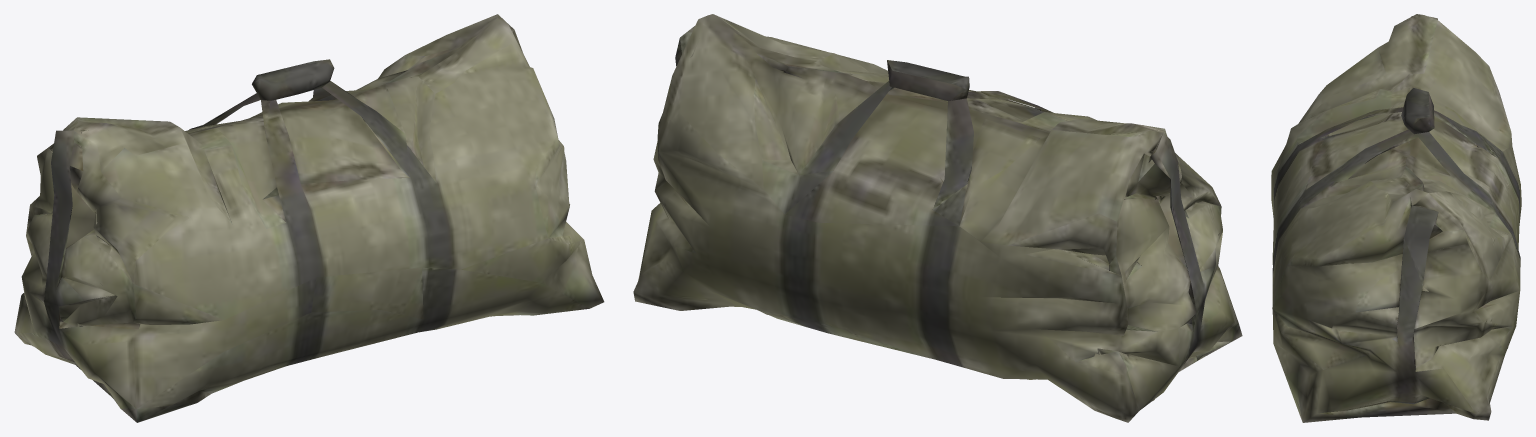
Rendered from sandbags_1131595002_lod0.glb.
3 views of the same model, side by side, from view 1: azimuth 30°, elevation 25°; view 2: azimuth 150°, elevation 25°; view 3: azimuth 270°, elevation 25° (orthographic). The views are drawn at different scales.
Bounding box in the file's own units: 2.6 × 1.25 × 1.29.
1 material, 1 textured.
